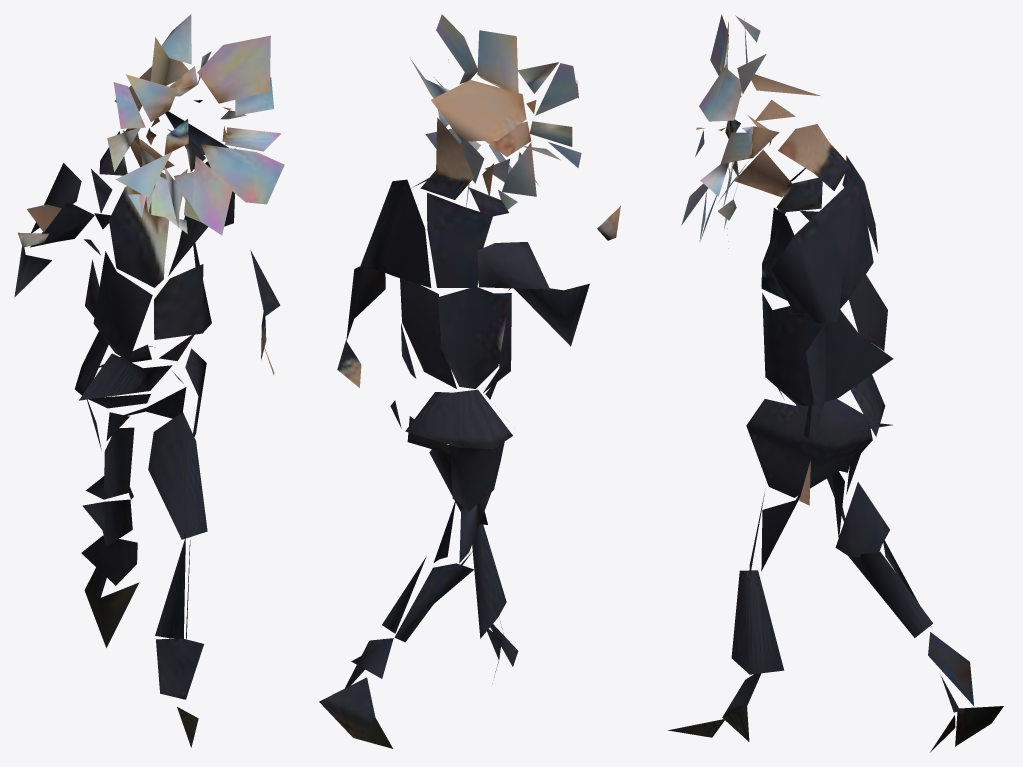
Rendered from crowd_wiseguy_lite.glb.
3 views of the same model, side by side, from view 1: azimuth 30°, elevation 25°; view 2: azimuth 150°, elevation 25°; view 3: azimuth 270°, elevation 25° (orthographic). The views are drawn at different scales.
Visible parts, largest first — view 1: tripo_node_096ba9d0-4f72-4ce4-bbae-e90f7e3d7e71; view 2: tripo_node_096ba9d0-4f72-4ce4-bbae-e90f7e3d7e71; view 3: tripo_node_096ba9d0-4f72-4ce4-bbae-e90f7e3d7e71.
Part boxes in pixels (x1=…): tripo_node_096ba9d0-4f72-4ce4-bbae-e90f7e3d7e71: x1=14, y1=14, x2=284, y2=747; tripo_node_096ba9d0-4f72-4ce4-bbae-e90f7e3d7e71: x1=319, y1=14, x2=620, y2=748; tripo_node_096ba9d0-4f72-4ce4-bbae-e90f7e3d7e71: x1=668, y1=14, x2=1003, y2=752.
Bounding box in the file's own units: 0.7765 × 1.82 × 0.7735.
1 material, 1 textured.
